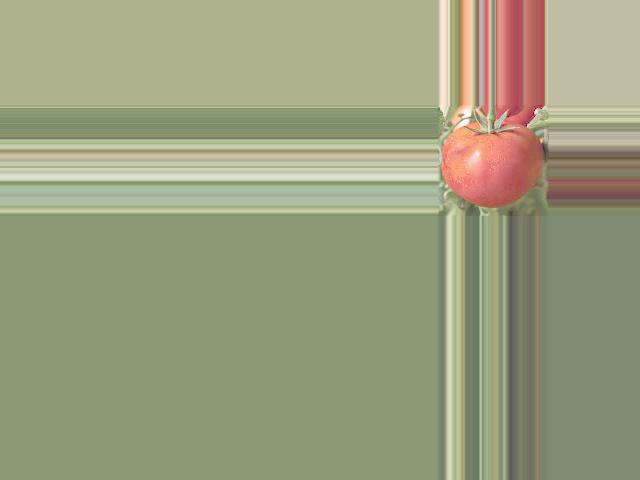tomato: (441, 120, 542, 207)
